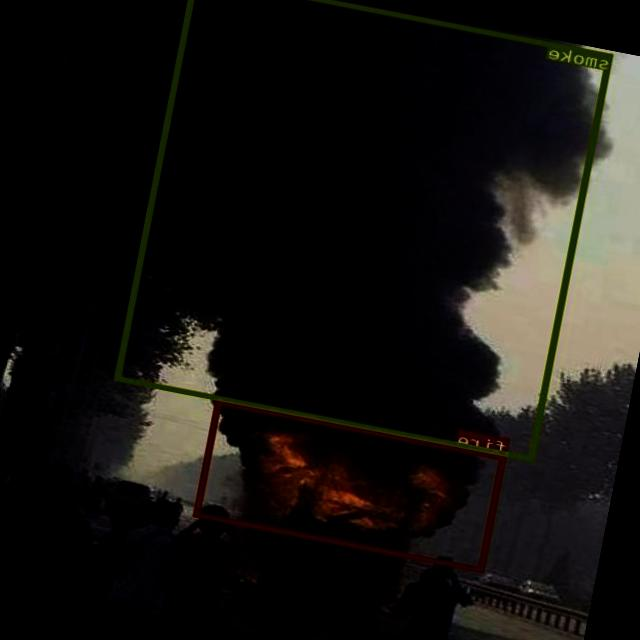fire: (195, 399, 508, 572)
smoke: (115, 0, 614, 461)
